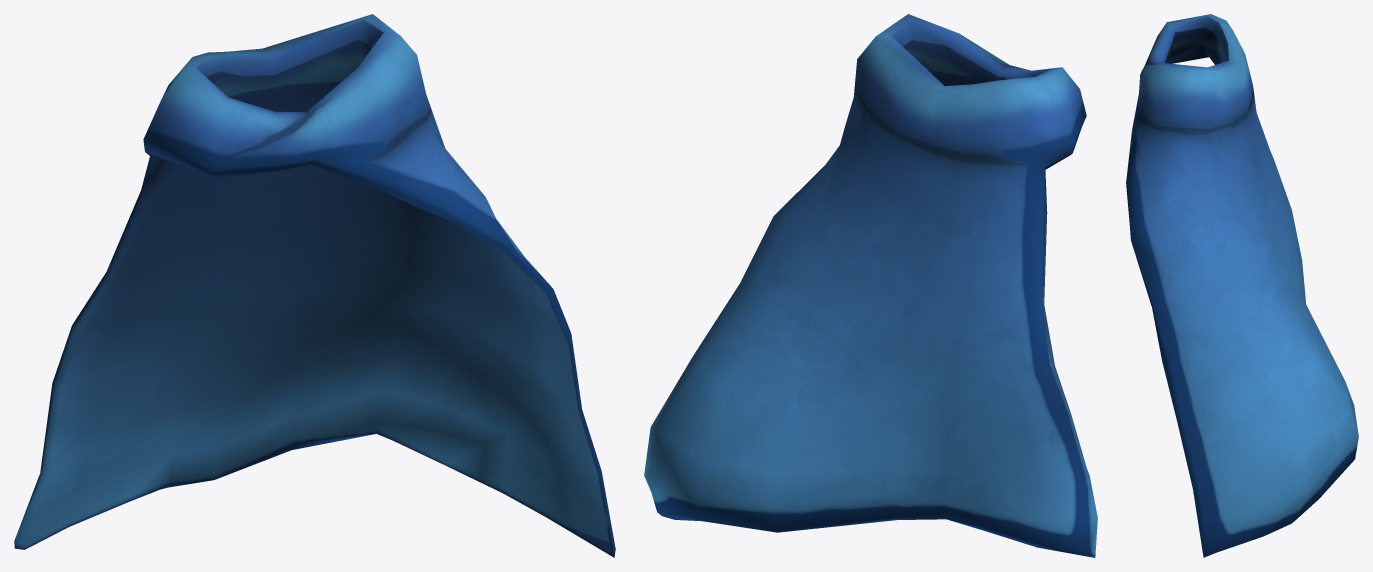
Rendered from back.fbx.
3 renders of one model, left to right at view 1: azimuth 30°, elevation 25°; view 2: azimuth 150°, elevation 25°; view 3: azimuth 270°, elevation 25°, orthographic. The views are drawn at different scales.
Parts seen in each view (by area): view 1: 2; view 2: 2; view 3: 2.
Part boxes in pixels (<box>): 2: <box>14,14,615,557</box>; 2: <box>644,14,1097,557</box>; 2: <box>1126,14,1358,557</box>.
Size of the model in its own units: 32644 by 34329 by 17656.
